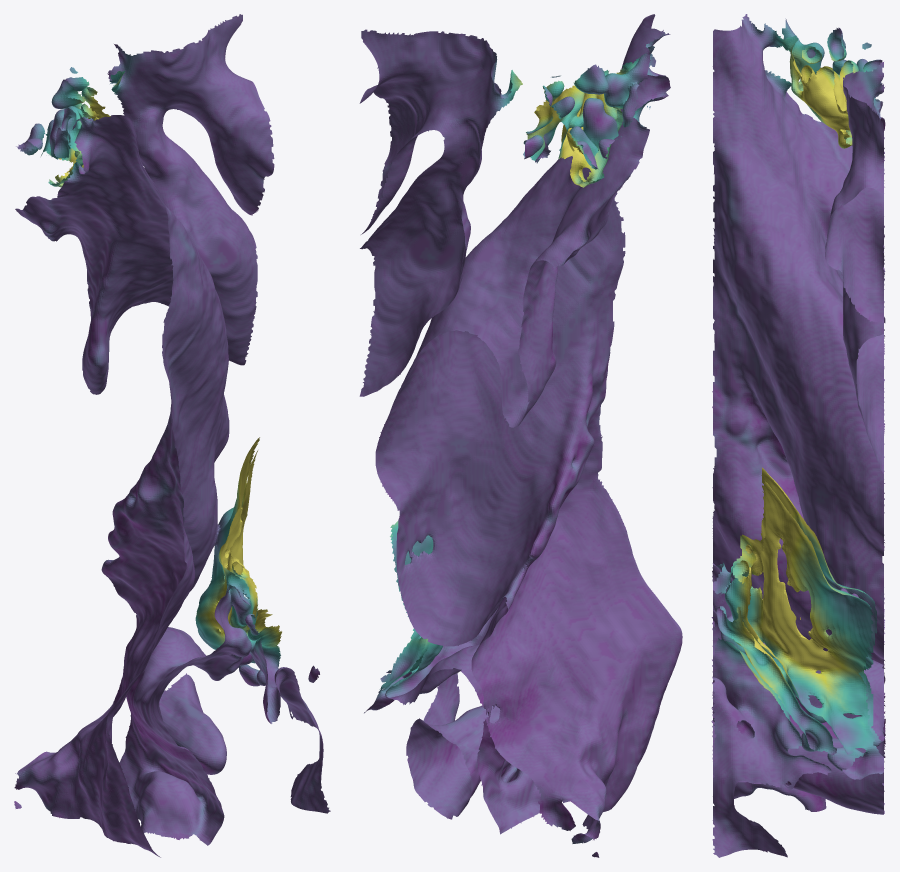
The model's file is crop1144_gap.glb.
The picture shows the model from 3 angles, left to right: view 1: azimuth 30°, elevation 25°; view 2: azimuth 150°, elevation 25°; view 3: azimuth 270°, elevation 25°; orthographic projection. The views are drawn at different scales.
Visible parts, largest first — view 1: world; view 2: world; view 3: world.
Part boxes in pixels (box(x1,y1,x2,y2)): world: box(14, 14, 330, 857); world: box(359, 14, 682, 857); world: box(711, 14, 885, 857).
Bounding box in the file's own units: 2327 × 7124 × 1535.
